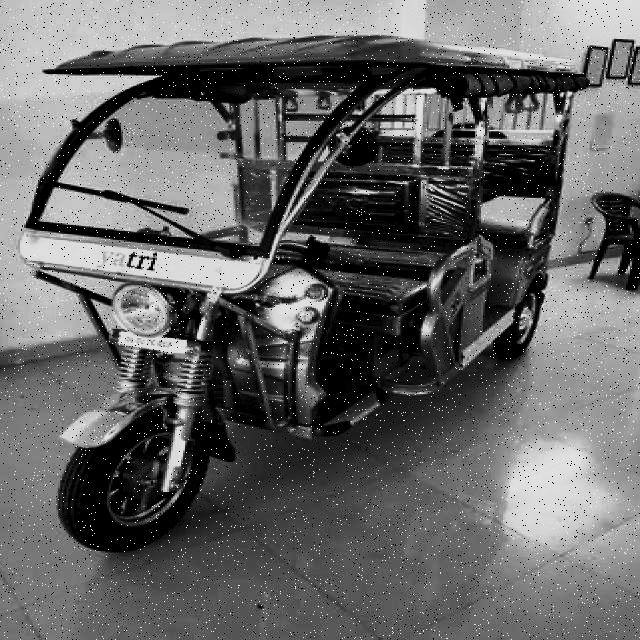Toto: (21, 19, 583, 541)
